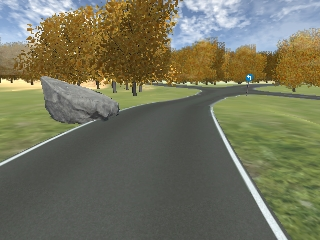left: (245, 74, 251, 80)
